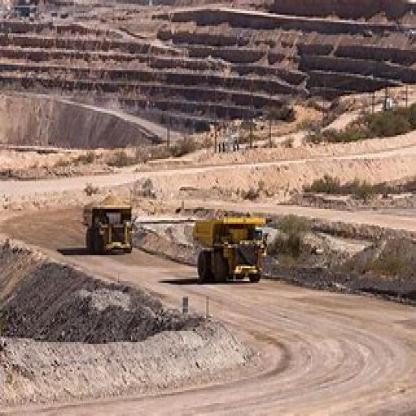dump_truck: (189, 202, 264, 286), (80, 198, 136, 270)
